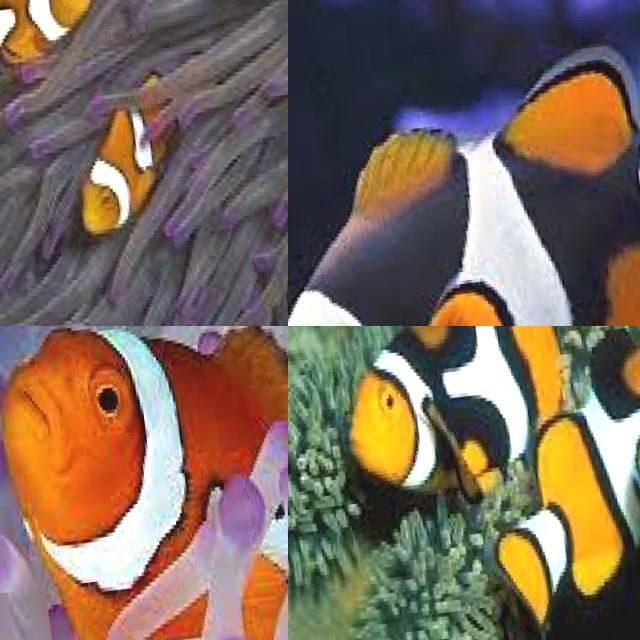Amphiprion-percula: (288, 0, 640, 326), (0, 326, 288, 640), (288, 326, 573, 491), (33, 36, 235, 247), (529, 326, 640, 618), (0, 0, 144, 188)
